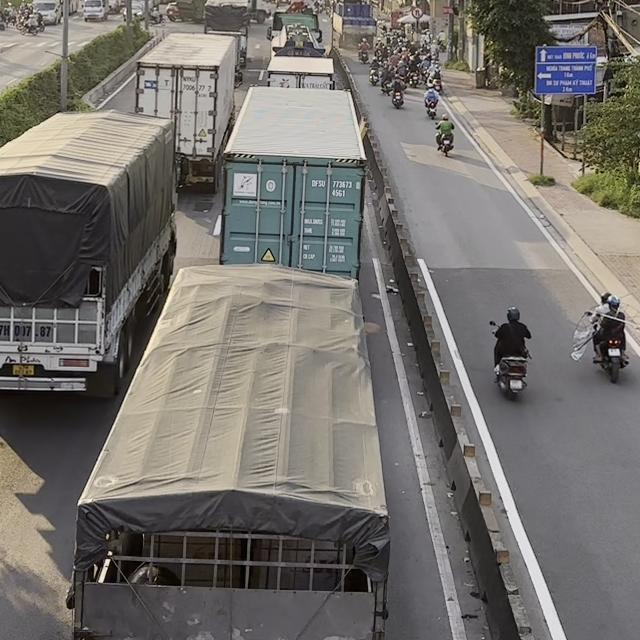motorcycle: (488, 320, 531, 400), (584, 310, 629, 383), (434, 122, 454, 157), (390, 80, 405, 110), (367, 61, 381, 86), (357, 43, 368, 63)
truck: (65, 262, 391, 639), (0, 108, 190, 399), (218, 85, 368, 282), (134, 32, 244, 192), (267, 11, 326, 57), (266, 55, 336, 89)
